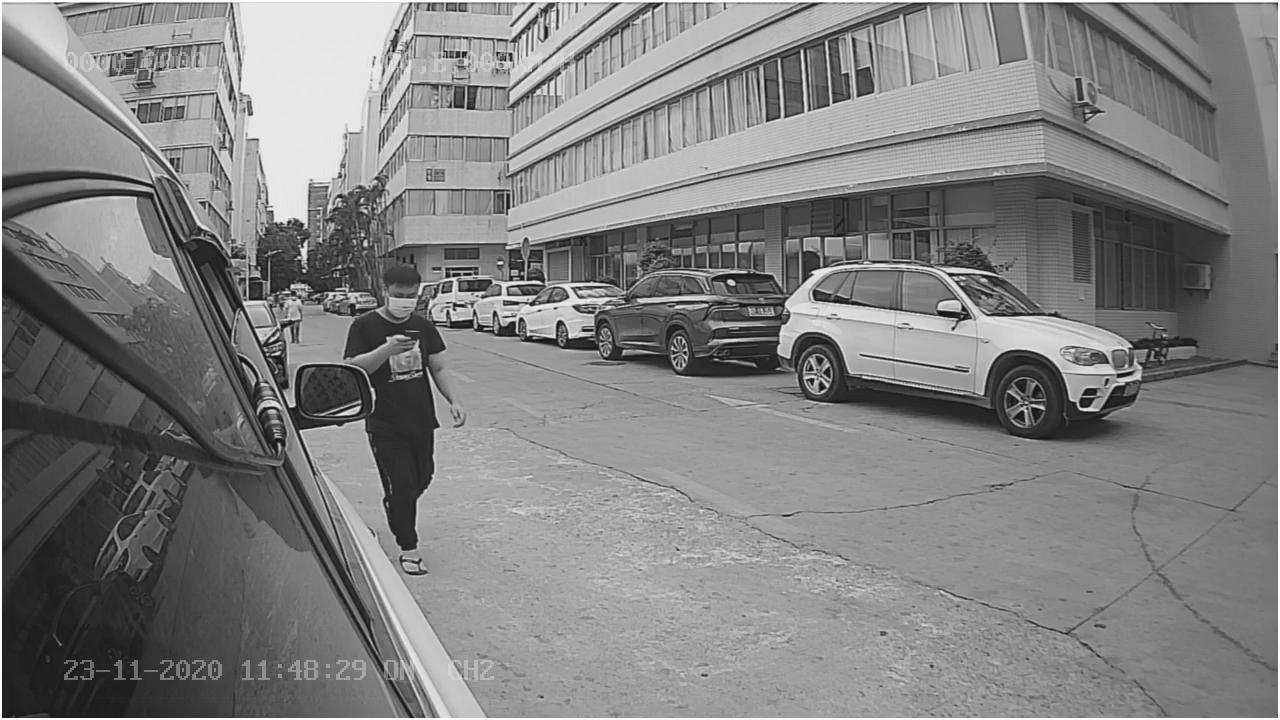person: (340, 253, 455, 367)
